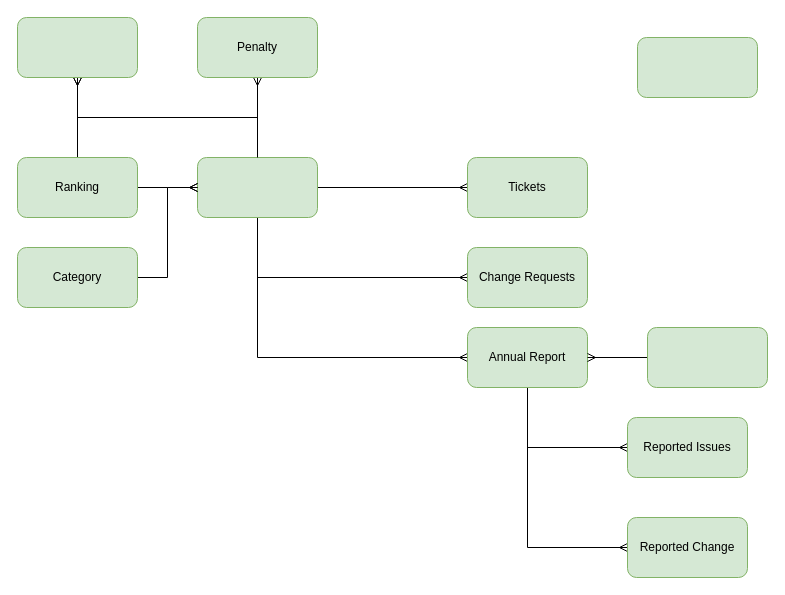
This 785x595 diagram has some shape labels left out. The shapes that lost their labels are listed below. From the top down, each one's centre as x and y in pixels, then its label:
At (77,47): "Ranking History".
At (697,67): "Report Context".
At (257,187): "Company".
At (707,357): "Reporting Cycle".
